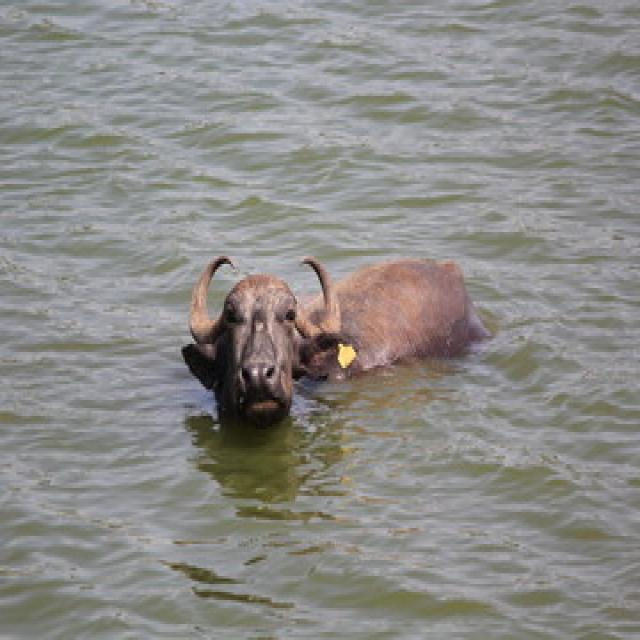Buffalo: (180, 246, 491, 430)
